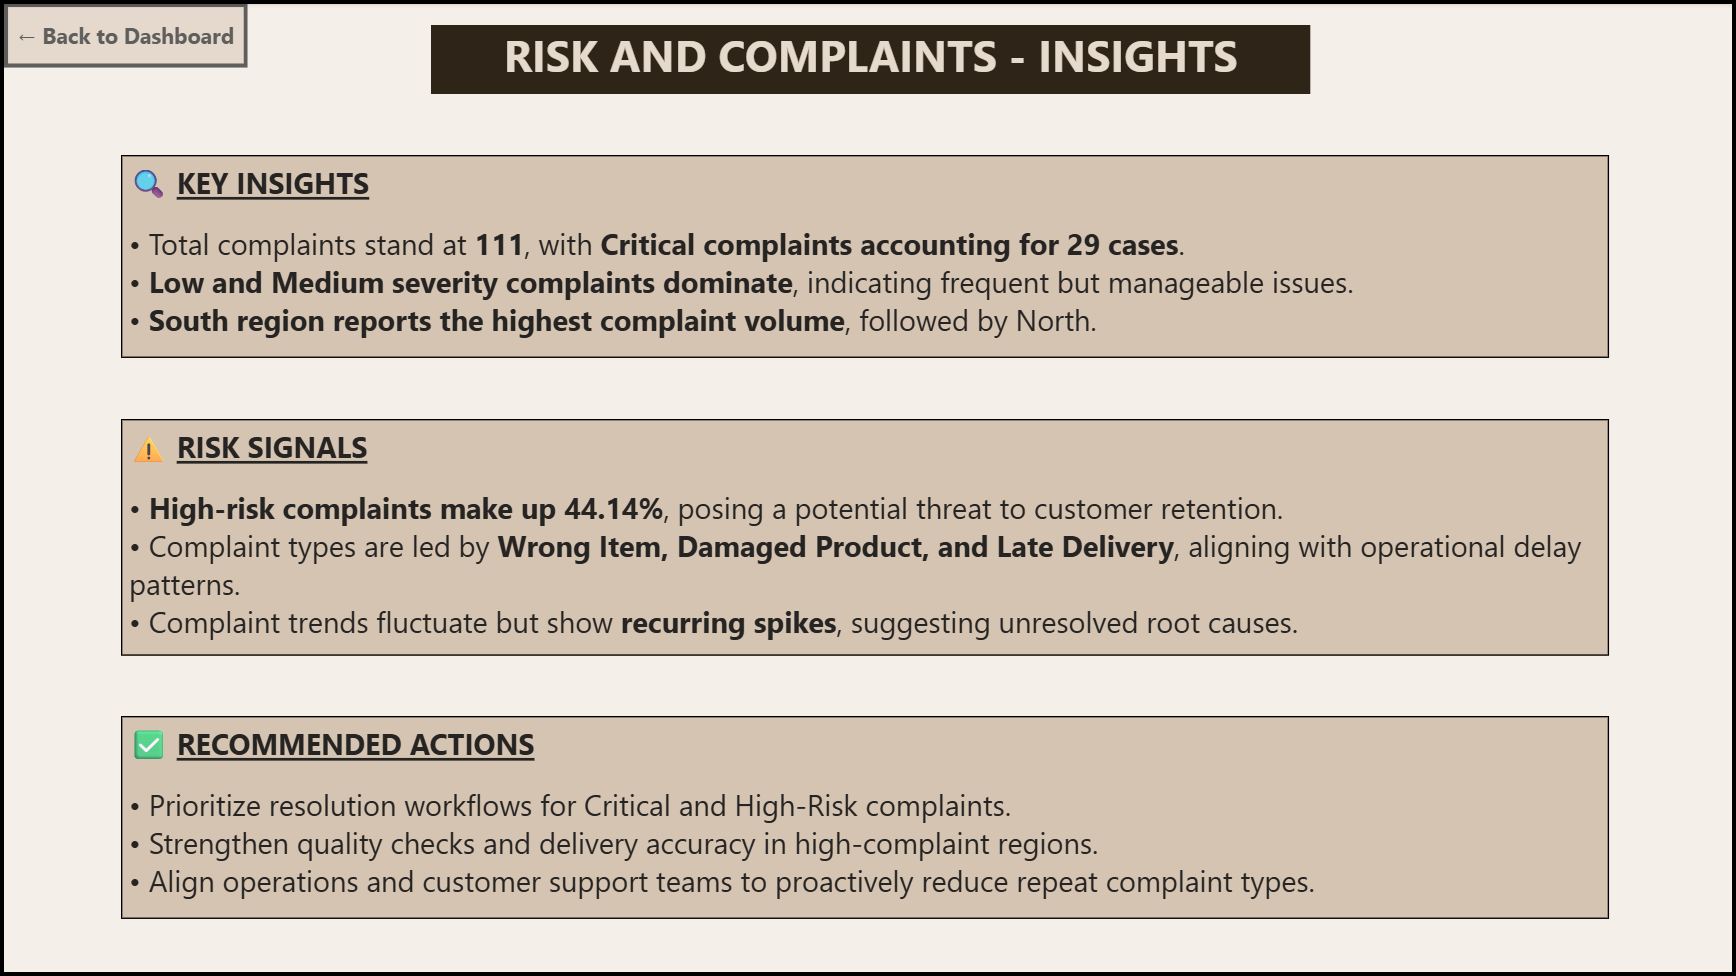

The page's visual inventory and layout, read from the dashboard file:
{"tool":"powerbi","page":{"name":"Risk and Complaints Insights","canvas":[1280,720],"ordinal":7},"visuals":[{"type":"textbox","title":"RISK AND COMPLAINTS - INSIGHTS","box":[315.4,15.9,650.2,51.2],"z":0},{"type":"textbox","box":[86.3,112.2,1100,150],"z":1},{"type":"textbox","box":[86.6,307.4,1099.8,174.9],"z":2},{"type":"textbox","box":[86.7,527.4,1100,150],"z":3},{"type":"actionButton","title":"← Back to Dashboard","box":[0,0,180.2,47.7],"z":4}]}

Visuals, with their boxes in screenshot pixels (x1, y1, x2, y2), scaled from the page's 1280x720 canvas onto the 1736x976 screenshot:
"RISK AND COMPLAINTS - INSIGHTS" textbox: <box>428,22,1310,91</box>
textbox: <box>117,152,1609,355</box>
textbox: <box>117,417,1609,654</box>
textbox: <box>118,715,1609,918</box>
"← Back to Dashboard" actionButton: <box>0,0,244,65</box>
